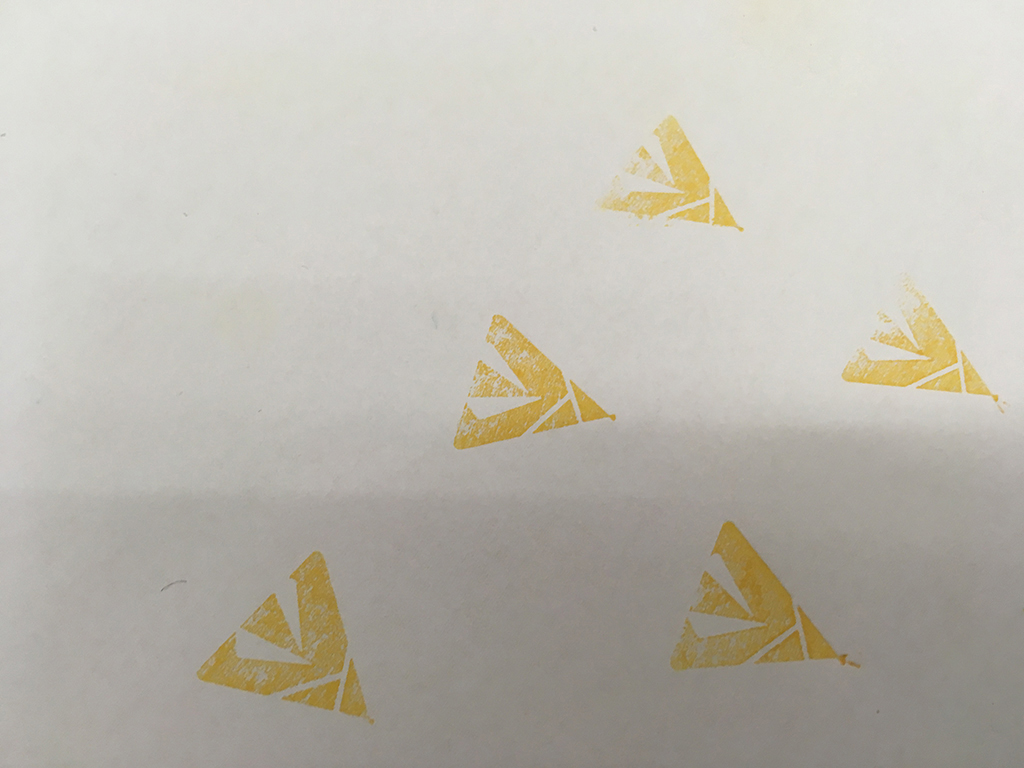tent: (188, 542, 384, 732), (668, 510, 870, 685), (453, 306, 627, 462), (839, 270, 1015, 424), (593, 108, 749, 238)
